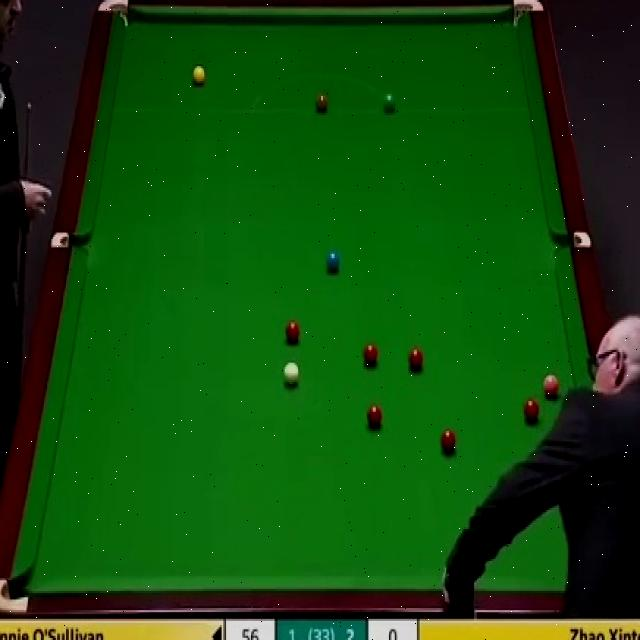blue-ball: (326, 247, 341, 274)
brown-ball: (314, 92, 330, 111)
green-ball: (382, 90, 397, 114)
pink-ball: (542, 374, 561, 395)
red-ball: (440, 428, 457, 457), (361, 342, 379, 367), (365, 403, 382, 429), (409, 345, 424, 372), (522, 397, 540, 419), (284, 319, 300, 341)
white-ball: (282, 361, 300, 387)
yellow-ball: (193, 66, 206, 86)
